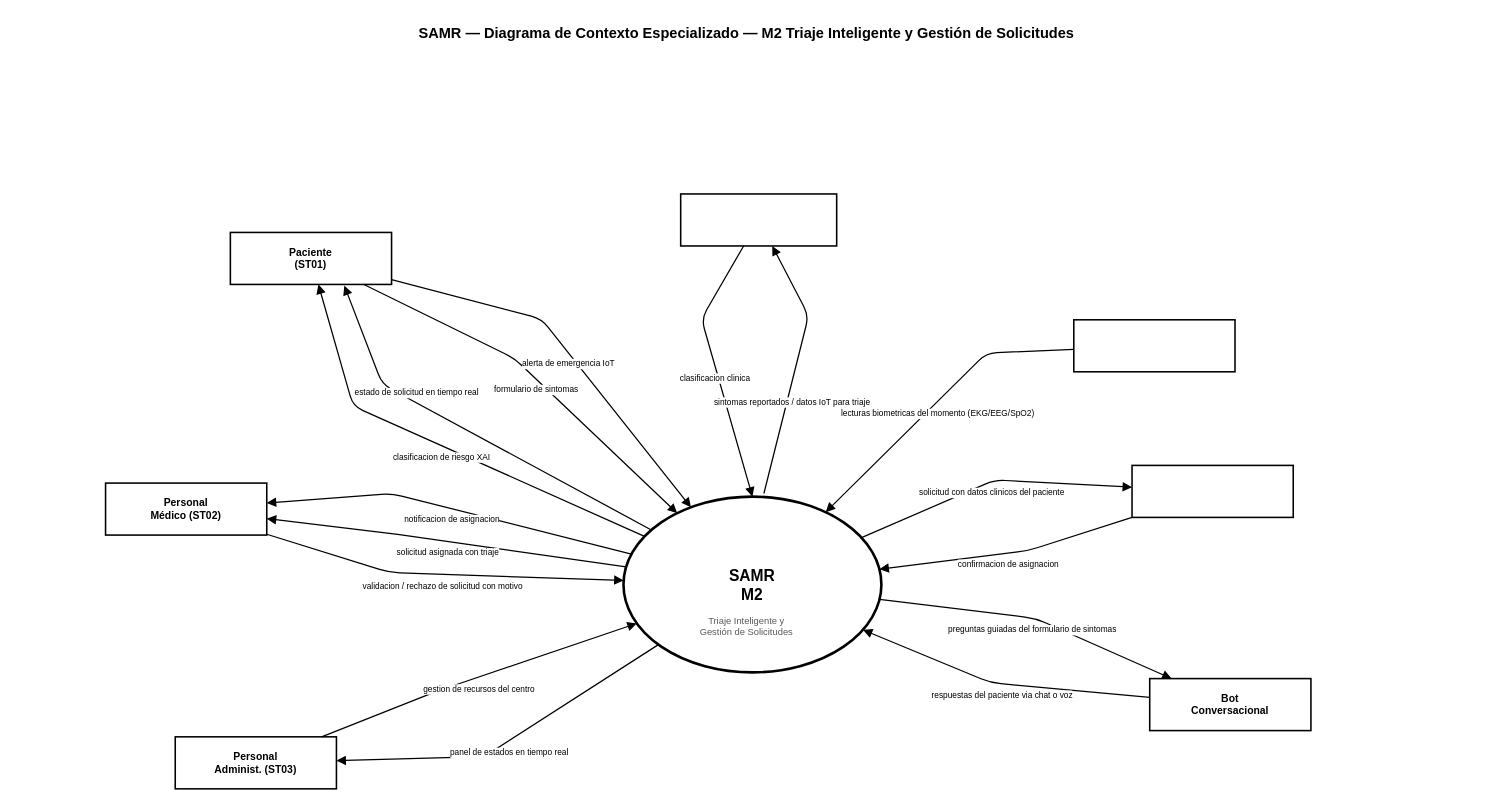
Image size: 1491x807. Some labels were removed from this diagram. The shapes that lost their labels are listed below. From the top down, each one's centre as x and y in pixels, then its label:
At (758,219): "Med-Gemini (Sistema)".
At (1154,345): "Dispositivos IoT (EKG/EEG/O2)".
At (1212,491): "Centro de Asistencia (ST04)".
